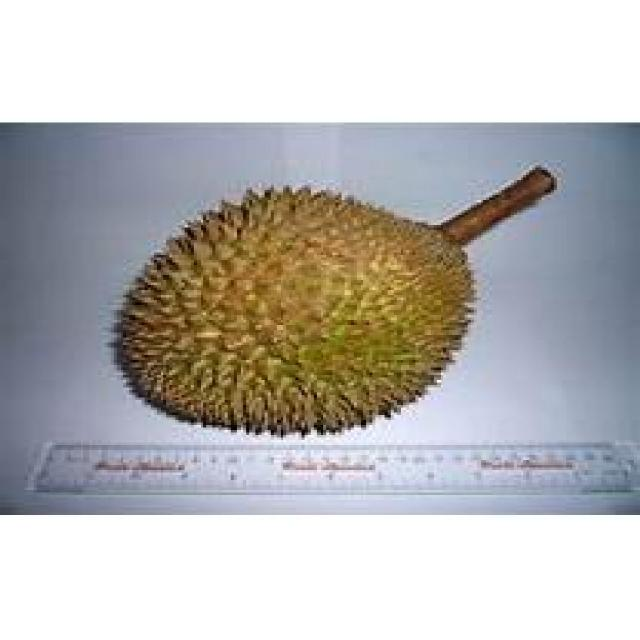fruit: (98, 162, 496, 462)
